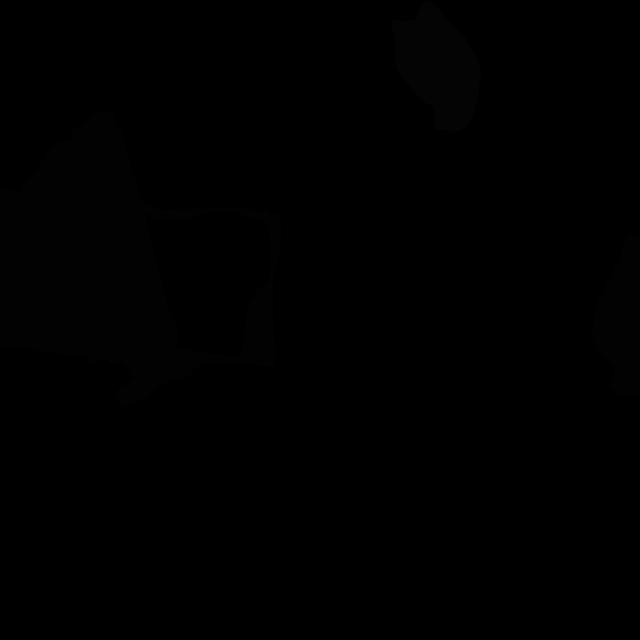cardboard: (4, 110, 178, 407), (142, 202, 282, 380), (0, 189, 106, 364), (592, 234, 640, 399)
soft_plastic: (391, 0, 481, 132)
